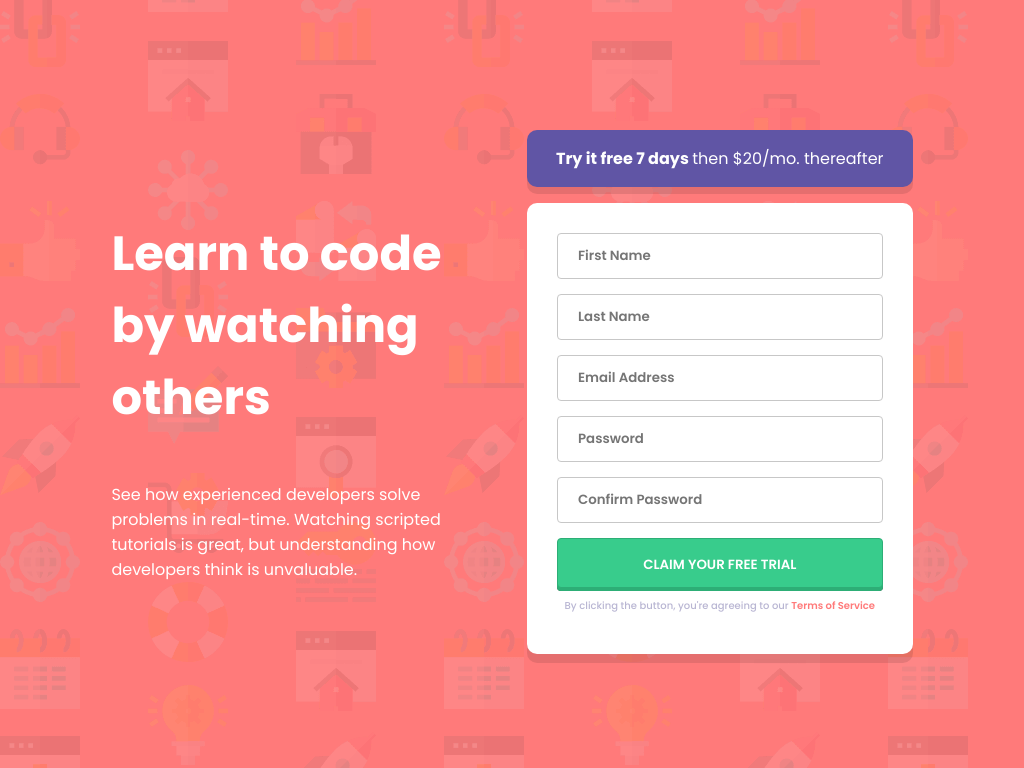
Test: Signup form: expected to show message when only lastName is empty
This screenshot has width=1024, height=768.
In the field with placeholder "First Name": (720, 256) [557,233,883,279], type "John"
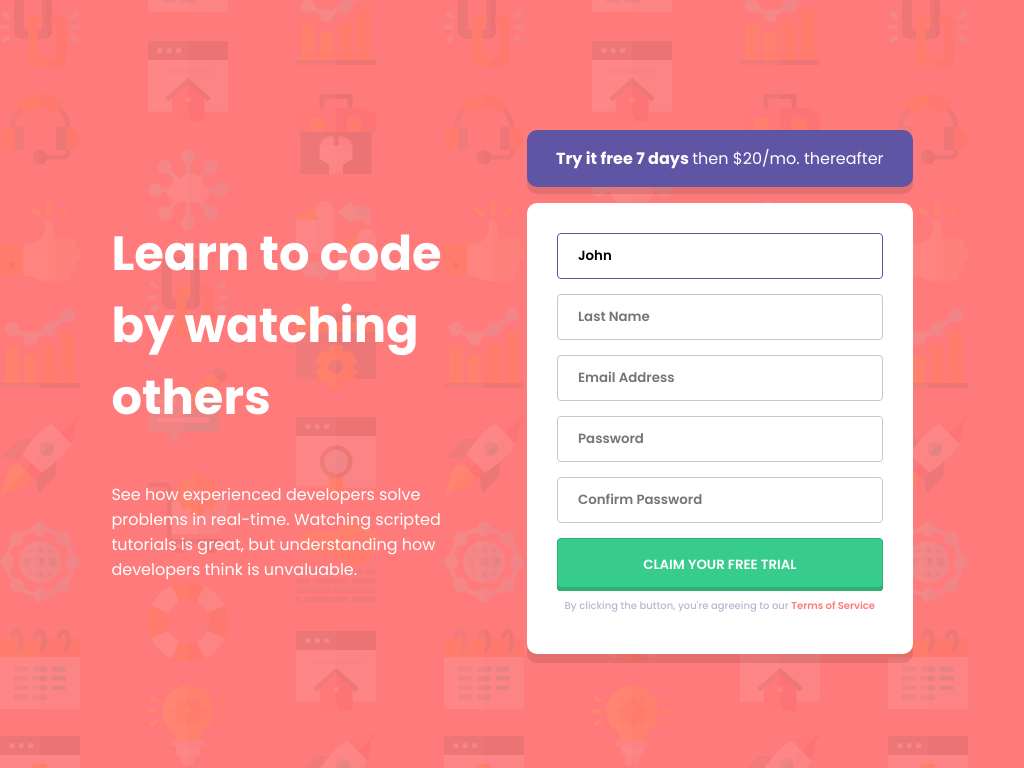
In the field with placeholder "Email Address": (720, 378) [557,355,883,401], type "johnDoe@example.com"
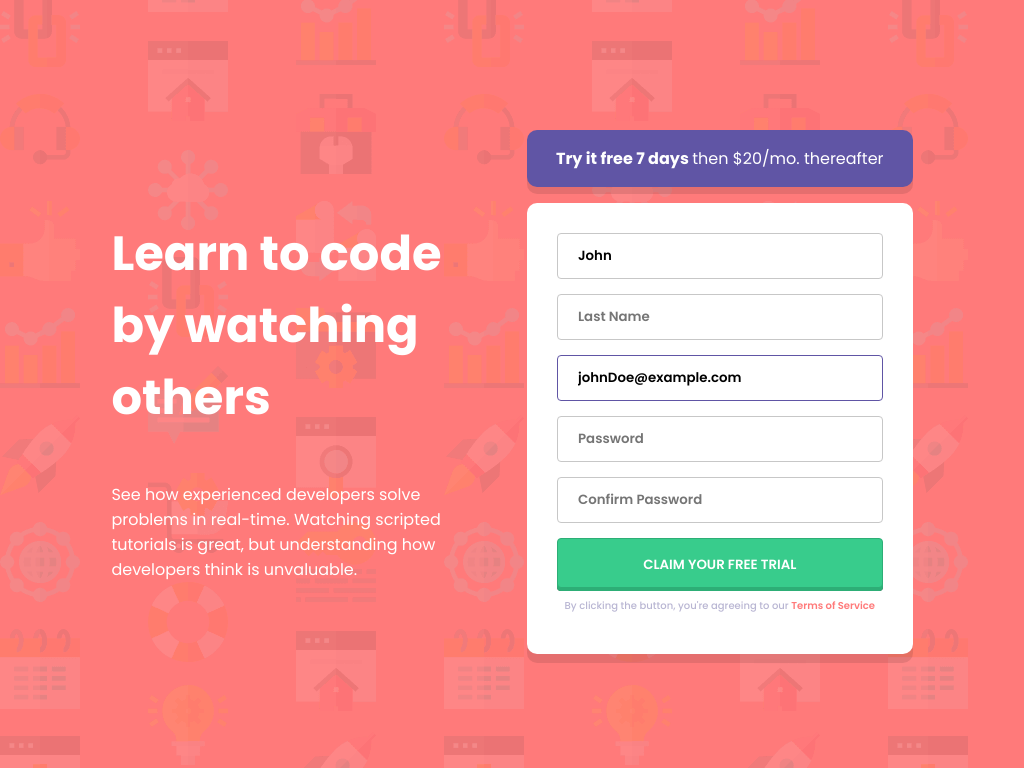
In the password field with placeholder "Password": (720, 439) [557,416,883,462], type "unsafePassword123"
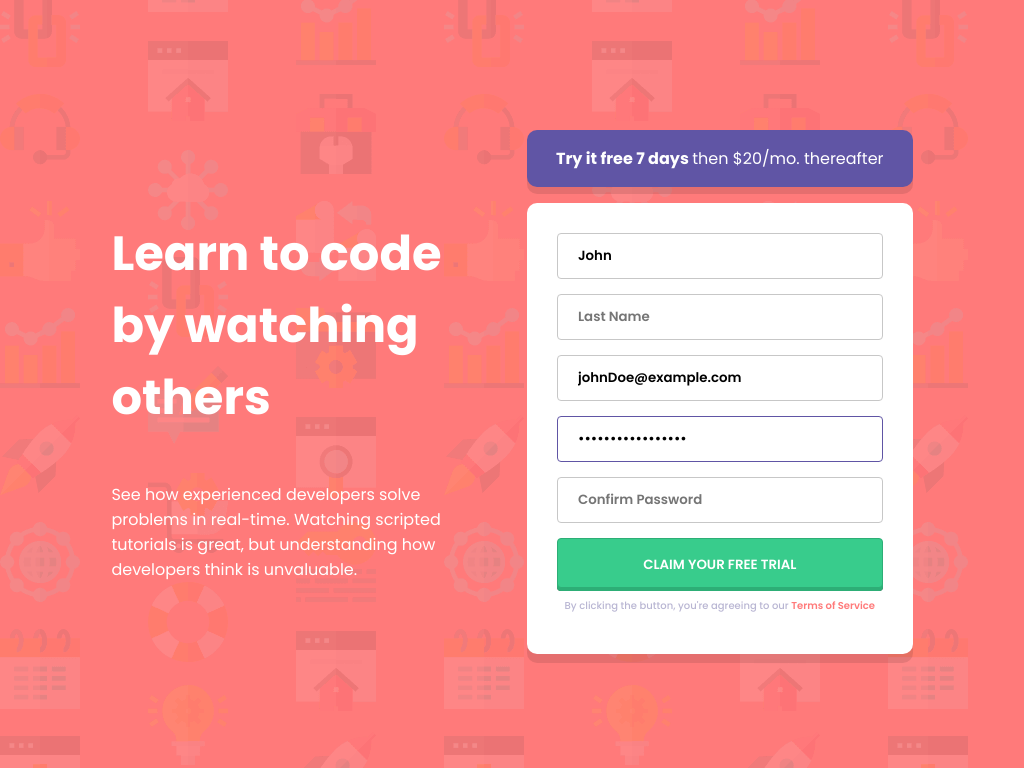
In the password field with placeholder "Confirm Password": (720, 500) [557,477,883,523], type "unsafePassword123"
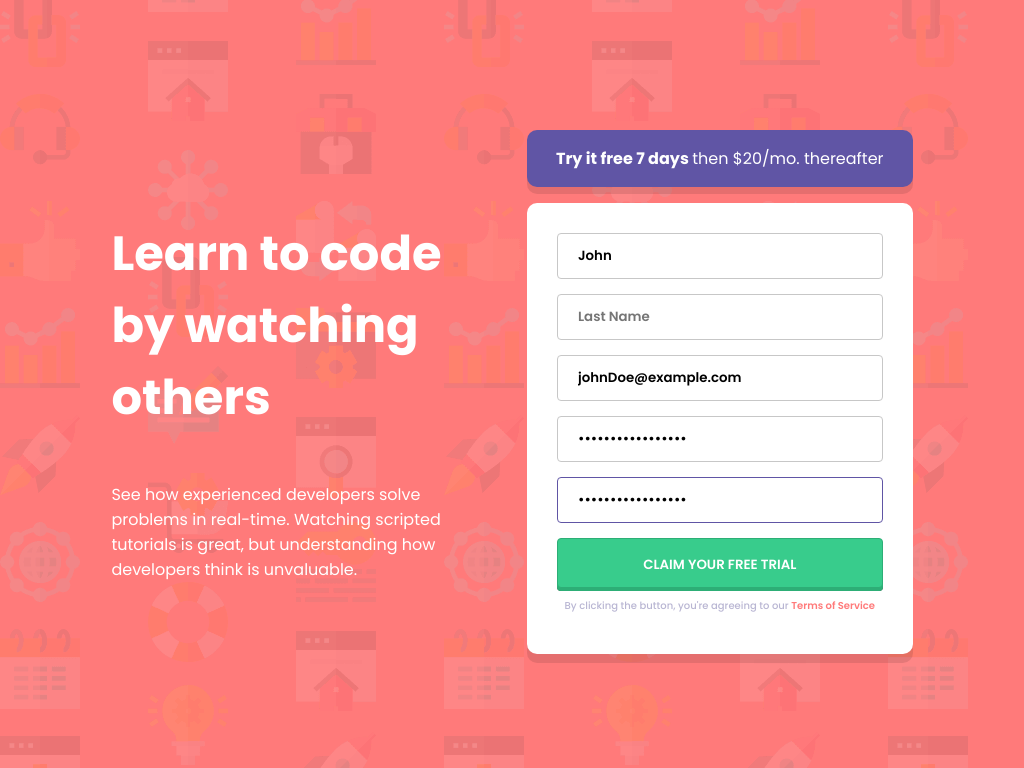
Click the button showing "CLAIM YOUR FREE TRIAL": (720, 563) [557,538,883,588]
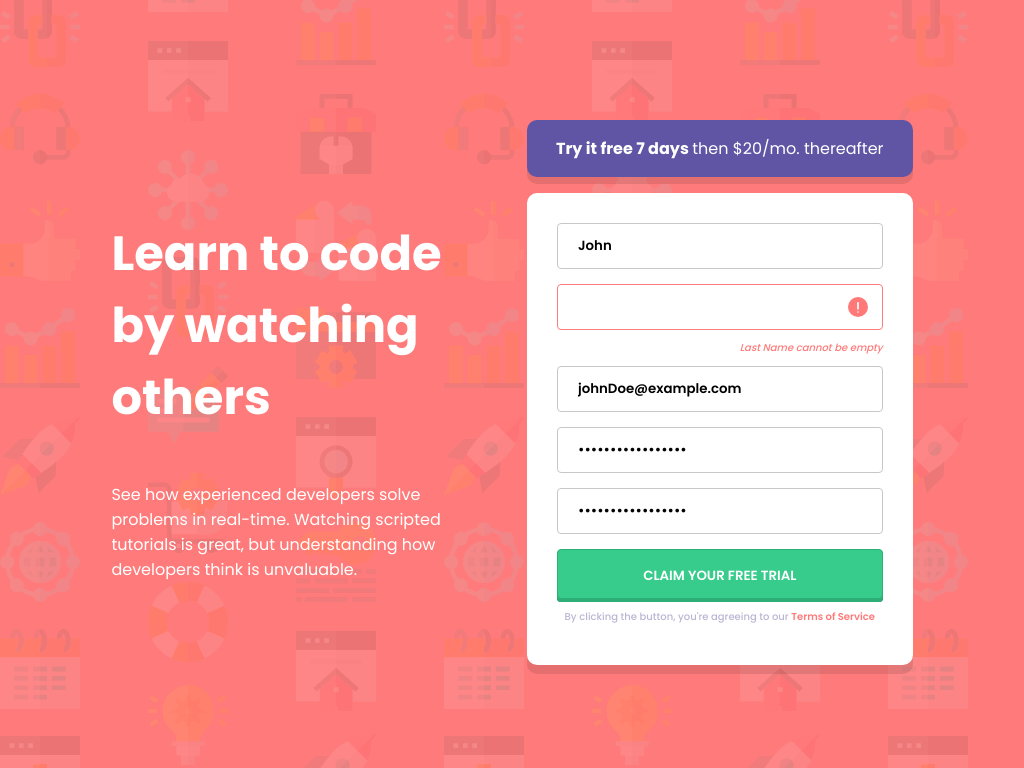
Expected: the text "Last Name cannot be empty" is shown, [740,340,883,354]
